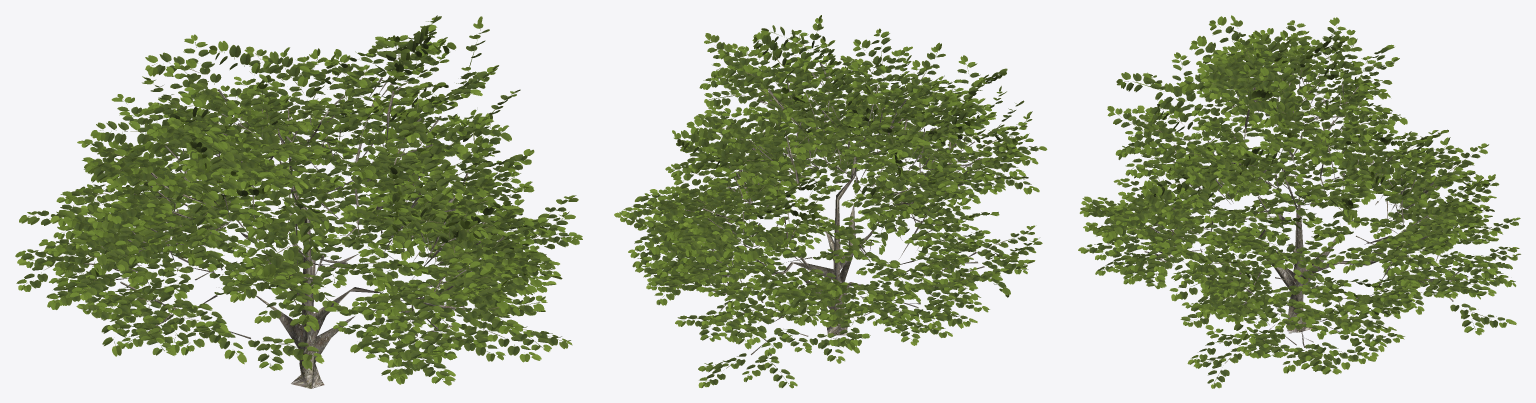
File: tree_orchid.glb
3 views of the same model, side by side, from view 1: azimuth 30°, elevation 25°; view 2: azimuth 150°, elevation 25°; view 3: azimuth 270°, elevation 25° (orthographic). The views are drawn at different scales.
Visible parts, largest first — view 1: Bauhinia_blakeana_HD; view 2: Bauhinia_blakeana_HD; view 3: Bauhinia_blakeana_HD.
Boxes of the visible parts, bbox=[...] form: Bauhinia_blakeana_HD: bbox=[15, 15, 582, 388]; Bauhinia_blakeana_HD: bbox=[614, 15, 1047, 388]; Bauhinia_blakeana_HD: bbox=[1078, 15, 1520, 388].
Bounding box in the file's own units: 7.22 × 5.16 × 7.3.
Materials: 7 (7 with a texture image).
